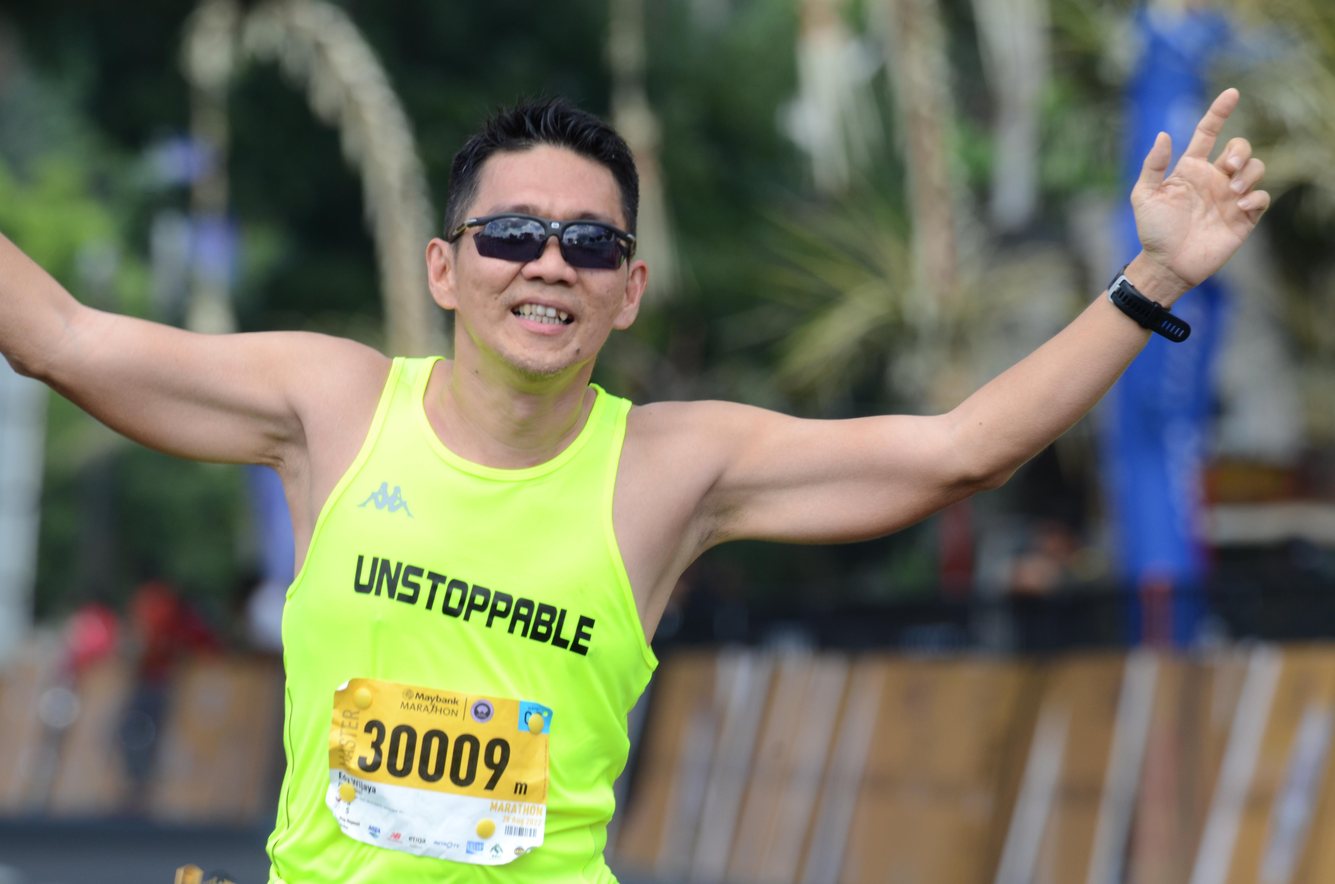bib: (329, 683, 548, 862)
